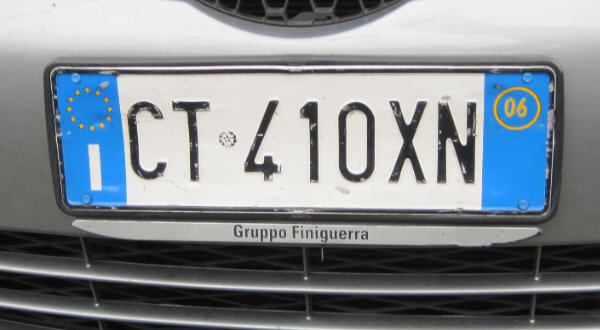license_plate: (48, 65, 553, 217)
